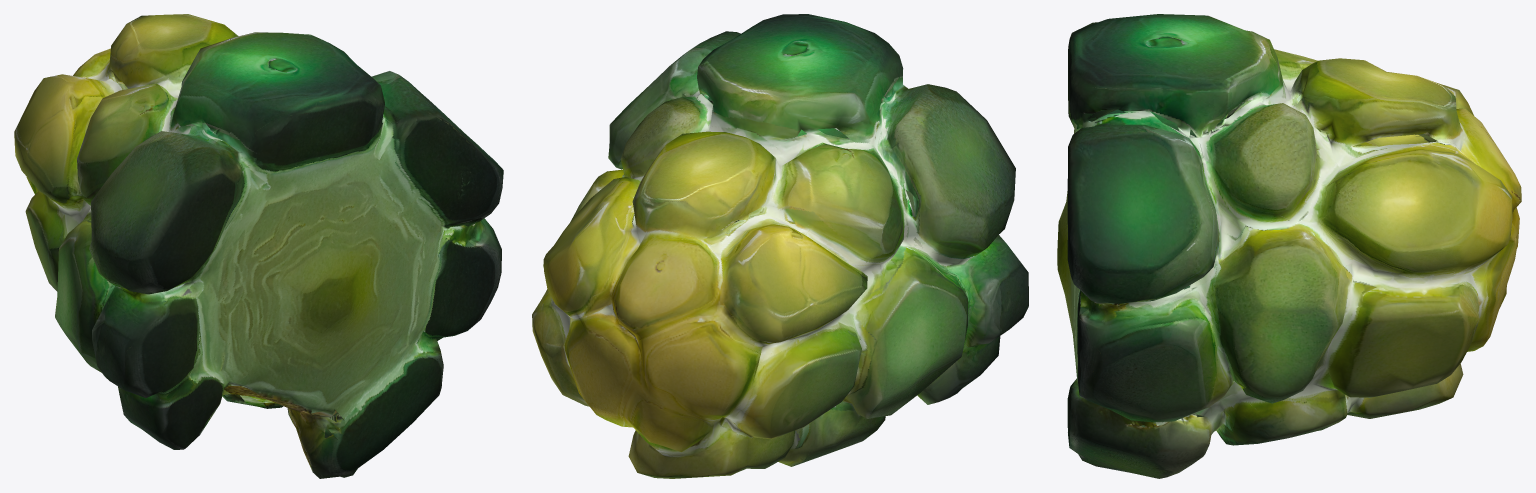
File: Emerald Crystal 1.fbx
The picture shows the model from 3 angles, left to right: view 1: azimuth 30°, elevation 25°; view 2: azimuth 150°, elevation 25°; view 3: azimuth 270°, elevation 25°; orthographic projection. The views are drawn at different scales.
Parts seen in each view (by area): view 1: texture_mapping; view 2: texture_mapping; view 3: texture_mapping.
Part boxes in pixels (box(x1,y1,x2,y2)): texture_mapping: box(14, 14, 503, 478); texture_mapping: box(532, 14, 1028, 478); texture_mapping: box(1057, 14, 1521, 478).
Bounding box in the file's own units: 5.93 × 5.75 × 5.92.
1 material, 1 textured.
